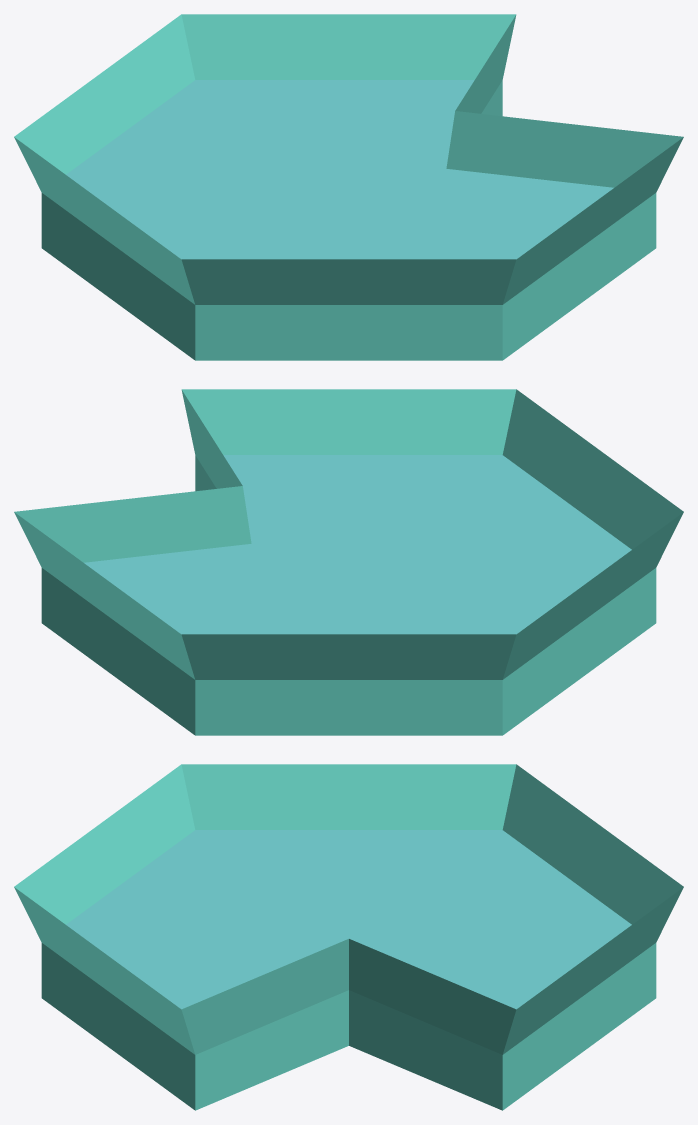
File: lily_small.glb
3 renders of one model, top to bottom at view 1: azimuth 30°, elevation 25°; view 2: azimuth 150°, elevation 25°; view 3: azimuth 270°, elevation 25°, orthographic.
Parts seen in each view (by area): view 1: lily_small; view 2: lily_small; view 3: lily_small.
Part boxes in pixels (<box>): lily_small: <box>14,14,683,360</box>; lily_small: <box>14,389,683,735</box>; lily_small: <box>14,764,683,1110</box>.
Bounding box in the file's own units: 0.1888 × 0.04 × 0.218.
